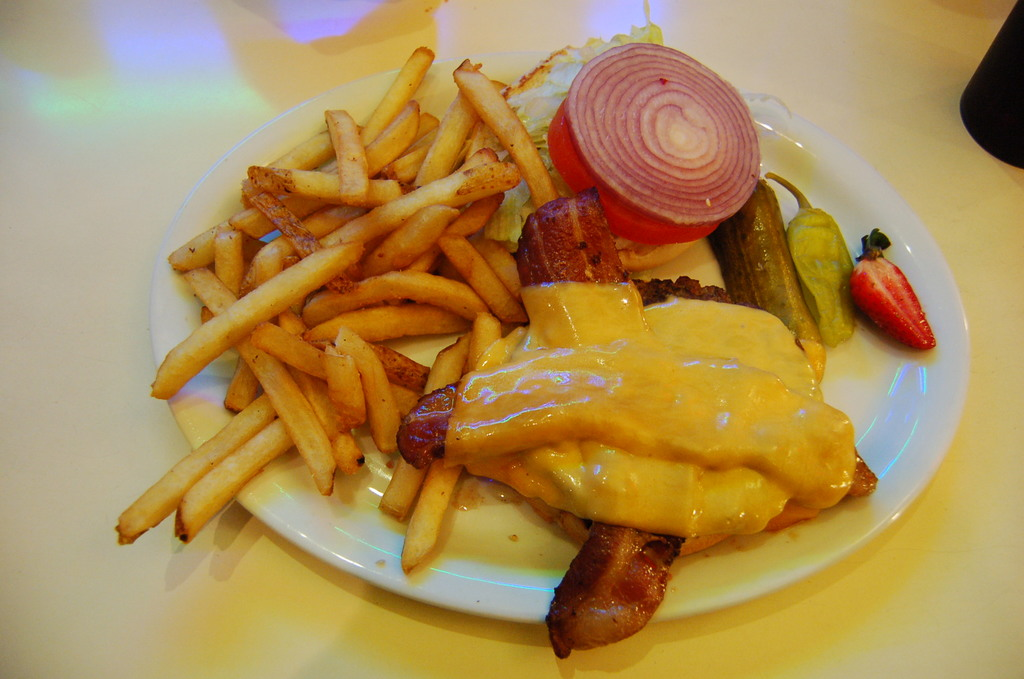French fries: (112, 44, 559, 566)
